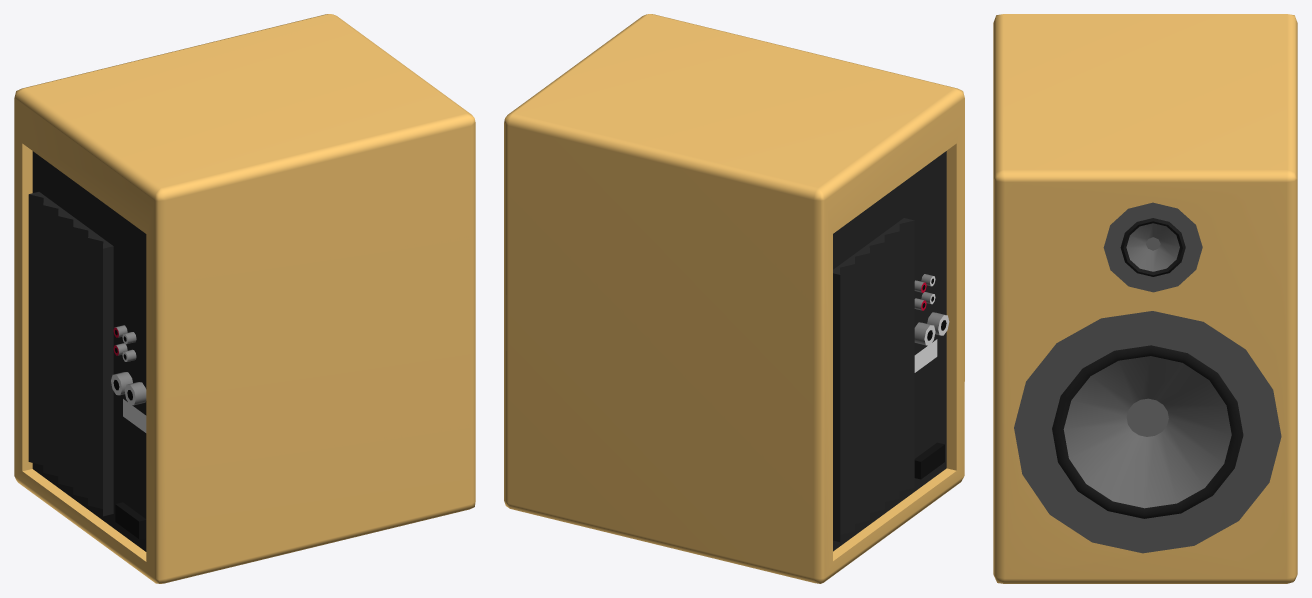
Rendered from Speaker_01.fbx.
The picture shows the model from 3 angles, left to right: view 1: azimuth 30°, elevation 25°; view 2: azimuth 150°, elevation 25°; view 3: azimuth 270°, elevation 25°; orthographic projection. The views are drawn at different scales.
Parts seen in each view (by area): view 1: Speaker_01; view 2: Speaker_01; view 3: Speaker_01.
Boxes of the visible parts, x1,y1,x2,y2 form: Speaker_01: (14,14,475,583); Speaker_01: (504,14,964,583); Speaker_01: (993,14,1297,583).
Size of the model in its own units: 23.3 by 27 by 18.
